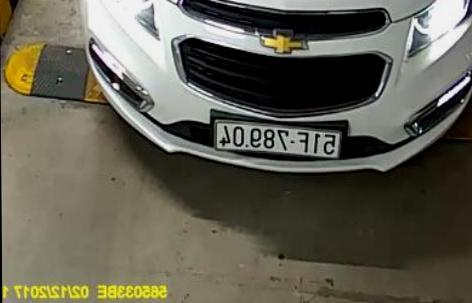License_Plate: (206, 120, 347, 162)
